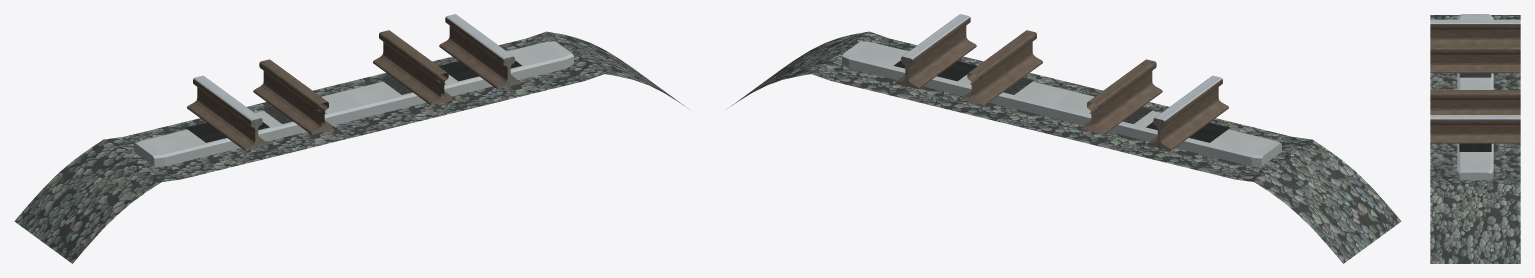
The model's file is center_guard_old_low.obj.
3 views of the same model, side by side, from view 1: azimuth 30°, elevation 25°; view 2: azimuth 150°, elevation 25°; view 3: azimuth 270°, elevation 25° (orthographic). The views are drawn at different scales.
Visible parts, largest first — view 1: ballast, sleeper, center_guard_left, center_guard_right, rail_right, rail_left, fastener_left, fastener_right; view 2: ballast, sleeper, center_guard_left, center_guard_right, rail_right, rail_left, fastener_left, fastener_right; view 3: ballast, center_guard_left, rail_right, rail_left, center_guard_right, sleeper, fastener_right, center_fastener_left.
Part boxes in pixels (<box>): ballast: <box>14,31,688,263</box>; sleeper: <box>134,41,573,166</box>; center_guard_left: <box>253,59,334,134</box>; center_guard_right: <box>373,30,454,105</box>; rail_right: <box>439,14,519,88</box>; rail_left: <box>187,75,266,150</box>; fastener_left: <box>185,122,269,142</box>; fastener_right: <box>439,60,522,81</box>; ballast: <box>727,31,1401,263</box>; sleeper: <box>842,41,1281,166</box>; center_guard_left: <box>1081,59,1162,134</box>; center_guard_right: <box>961,30,1042,105</box>; rail_right: <box>896,14,976,88</box>; rail_left: <box>1149,75,1228,150</box>; fastener_left: <box>1146,122,1230,142</box>; fastener_right: <box>893,60,976,81</box>; ballast: <box>1430,15,1520,263</box>; center_guard_left: <box>1430,44,1520,73</box>; rail_right: <box>1430,115,1520,143</box>; rail_left: <box>1430,19,1520,44</box>; center_guard_right: <box>1430,90,1520,114</box>; sleeper: <box>1457,14,1493,180</box>; fastener_right: <box>1459,143,1491,151</box>; center_fastener_left: <box>1459,73,1491,77</box>.
Size of the model in its own units: 3.7 by 0.5683 by 0.6.
